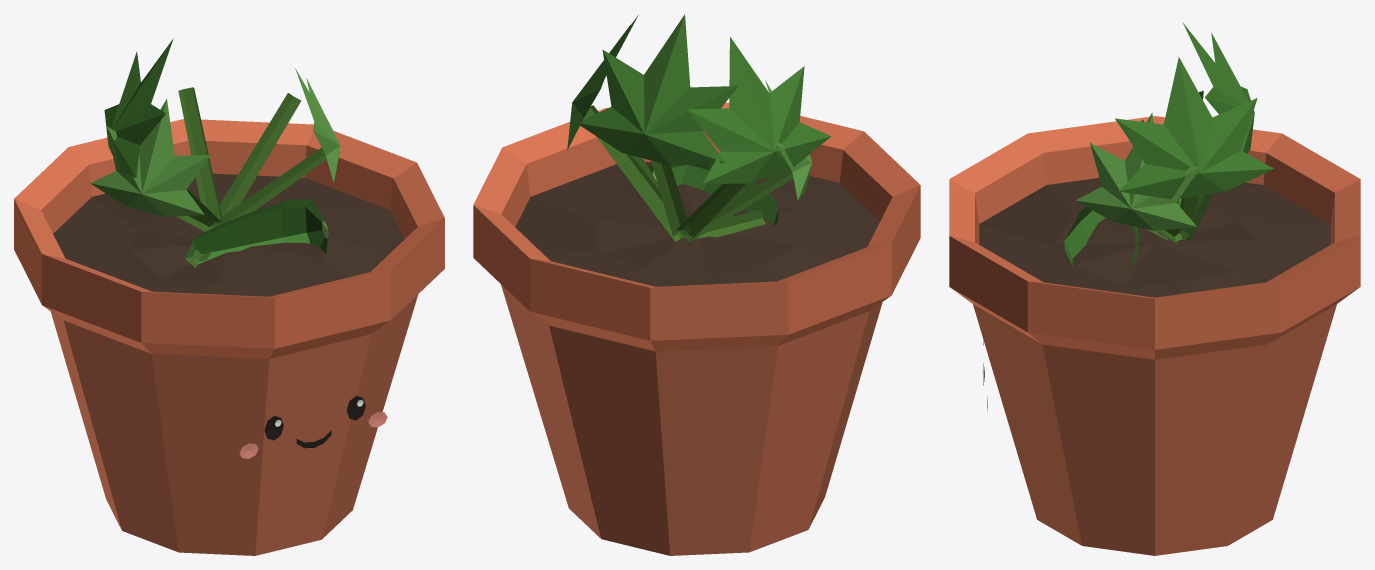
Rendered from cute_zucchini_stage4.glb.
3 views of the same model, side by side, from view 1: azimuth 30°, elevation 25°; view 2: azimuth 150°, elevation 25°; view 3: azimuth 270°, elevation 25° (orthographic). The views are drawn at different scales.
Parts seen in each view (by area): view 1: Zucchini_Stage4_Harvest; view 2: Zucchini_Stage4_Harvest; view 3: Zucchini_Stage4_Harvest.
Part boxes in pixels (box(x1,y1,x2,y2)): Zucchini_Stage4_Harvest: box(14, 38, 444, 555); Zucchini_Stage4_Harvest: box(473, 14, 920, 555); Zucchini_Stage4_Harvest: box(949, 22, 1360, 555).
Bounding box in the file's own units: 1.92 × 2.35 × 1.83.
